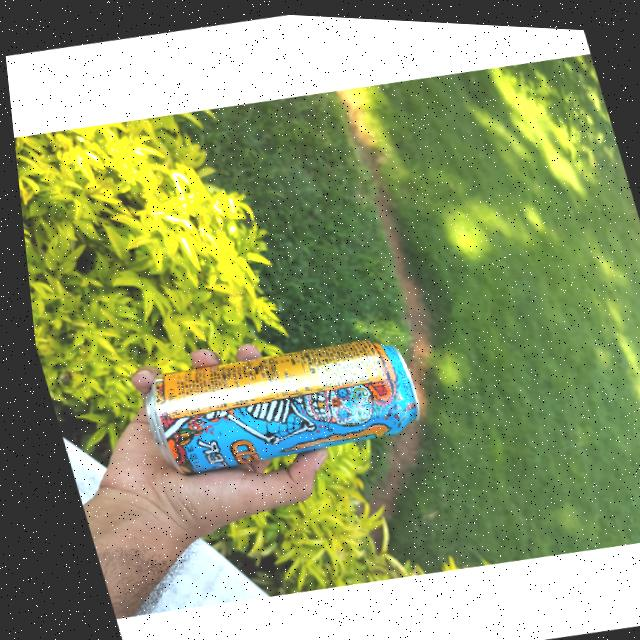Monster Mango Loco: (122, 318, 433, 489)
